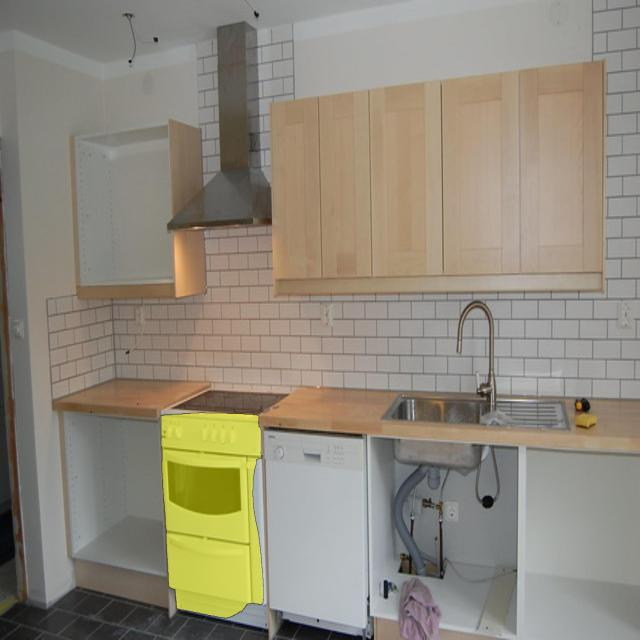dishwasher: (262, 425, 370, 640)
